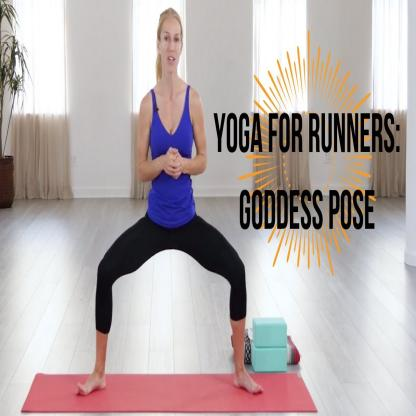godness: (72, 3, 266, 404)
